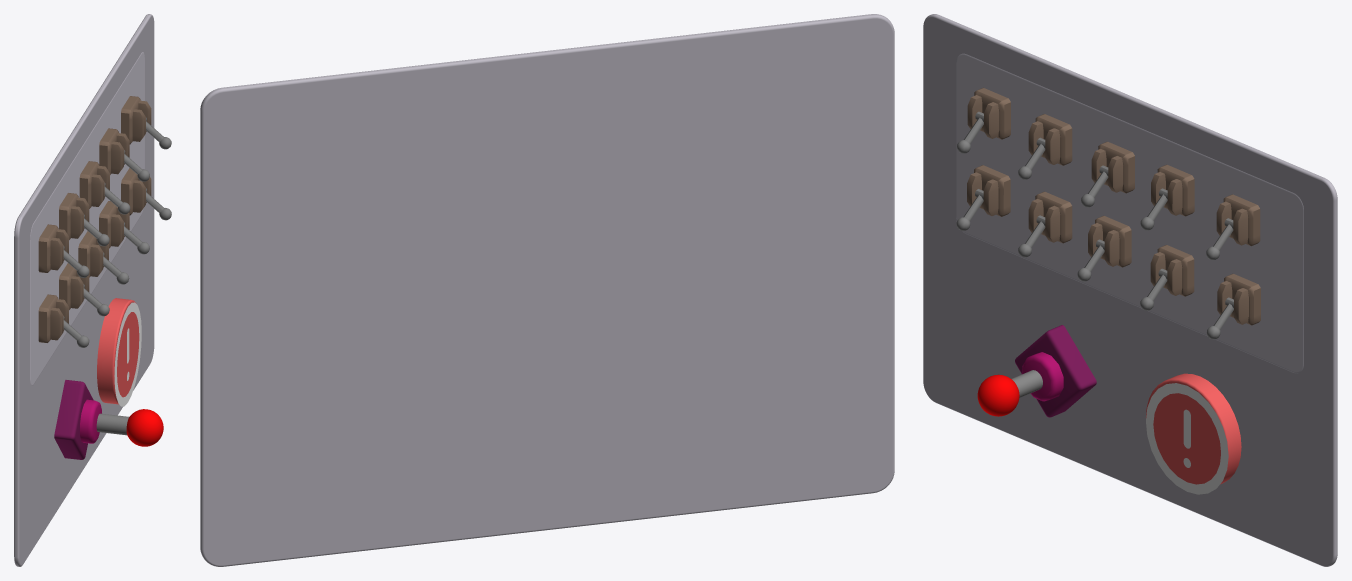
Rendered from control panel.glb.
The picture shows the model from 3 angles, left to right: view 1: azimuth 30°, elevation 25°; view 2: azimuth 150°, elevation 25°; view 3: azimuth 270°, elevation 25°; orthographic projection. The views are drawn at different scales.
Visible parts, largest first — view 1: Backplate, Backplate.001, Backplate.002, Box002_Base_0, rail_switch_6204c2dd-77b0-4540-b9f2-be2b3172f42f(Clone), rail_switch_6204c2dd-77b0-4540-b9f2-be2b3172f42f(Clone).009, rail_switch_6204c2dd-77b0-4540-b9f2-be2b3172f42f(Clone).004, rail_switch_6204c2dd-77b0-4540-b9f2-be2b3172f42f(Clone).002, rail_switch_6204c2dd-77b0-4540-b9f2-be2b3172f42f(Clone).003, rail_switch_6204c2dd-77b0-4540-b9f2-be2b3172f42f(Clone).001, rail_switch_6204c2dd-77b0-4540-b9f2-be2b3172f42f(Clone).008, rail_switch_6204c2dd-77b0-4540-b9f2-be2b3172f42f(Clone).006 (+6 smaller); view 2: Backplate; view 3: Backplate, Backplate.001, Backplate.002, Box002_Base_0, Warning Circle, rail_switch_6204c2dd-77b0-4540-b9f2-be2b3172f42f(Clone).008, rail_switch_6204c2dd-77b0-4540-b9f2-be2b3172f42f(Clone).006, rail_switch_6204c2dd-77b0-4540-b9f2-be2b3172f42f(Clone).004, rail_switch_6204c2dd-77b0-4540-b9f2-be2b3172f42f(Clone).001, rail_switch_6204c2dd-77b0-4540-b9f2-be2b3172f42f(Clone).003, rail_switch_6204c2dd-77b0-4540-b9f2-be2b3172f42f(Clone).007, rail_switch_6204c2dd-77b0-4540-b9f2-be2b3172f42f(Clone).009 (+6 smaller).
Part boxes in pixels (box(x1,y1,x2,y2)): Backplate: box(14, 14, 154, 566); Backplate.001: box(30, 52, 144, 385); Backplate.002: box(97, 298, 139, 404); Box002_Base_0: box(54, 380, 93, 459); rail_switch_6204c2dd-77b0-4540-b9f2-be2b3172f42f(Clone): box(38, 224, 89, 277); rail_switch_6204c2dd-77b0-4540-b9f2-be2b3172f42f(Clone).009: box(38, 294, 89, 347); rail_switch_6204c2dd-77b0-4540-b9f2-be2b3172f42f(Clone).004: box(121, 96, 171, 149); rail_switch_6204c2dd-77b0-4540-b9f2-be2b3172f42f(Clone).002: box(79, 161, 130, 214); rail_switch_6204c2dd-77b0-4540-b9f2-be2b3172f42f(Clone).003: box(99, 128, 149, 181); rail_switch_6204c2dd-77b0-4540-b9f2-be2b3172f42f(Clone).001: box(59, 193, 109, 246); rail_switch_6204c2dd-77b0-4540-b9f2-be2b3172f42f(Clone).008: box(59, 263, 109, 316); rail_switch_6204c2dd-77b0-4540-b9f2-be2b3172f42f(Clone).006: box(99, 201, 149, 254); Backplate: box(200, 14, 894, 566); Backplate: box(923, 14, 1337, 566); Backplate.001: box(956, 53, 1303, 373); Backplate.002: box(1145, 373, 1241, 484); Box002_Base_0: box(1015, 325, 1096, 417); Warning Circle: box(1146, 383, 1228, 494); rail_switch_6204c2dd-77b0-4540-b9f2-be2b3172f42f(Clone).008: box(1018, 191, 1072, 257); rail_switch_6204c2dd-77b0-4540-b9f2-be2b3172f42f(Clone).006: box(1140, 245, 1194, 310); rail_switch_6204c2dd-77b0-4540-b9f2-be2b3172f42f(Clone).004: box(1206, 194, 1260, 260); rail_switch_6204c2dd-77b0-4540-b9f2-be2b3172f42f(Clone).001: box(1018, 114, 1072, 179); rail_switch_6204c2dd-77b0-4540-b9f2-be2b3172f42f(Clone).003: box(1140, 164, 1194, 230); rail_switch_6204c2dd-77b0-4540-b9f2-be2b3172f42f(Clone).007: box(1077, 215, 1131, 281); rail_switch_6204c2dd-77b0-4540-b9f2-be2b3172f42f(Clone).009: box(956, 165, 1010, 230).
Bounding box in the file's own units: 0.3536 × 0.365 × 0.3536.
